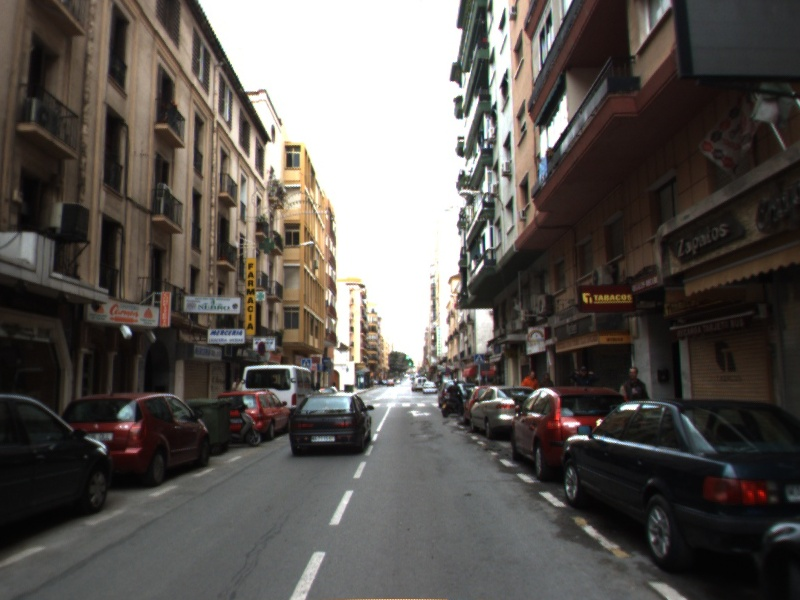STRAIGHT_RIGHT: (406, 408, 433, 418)
